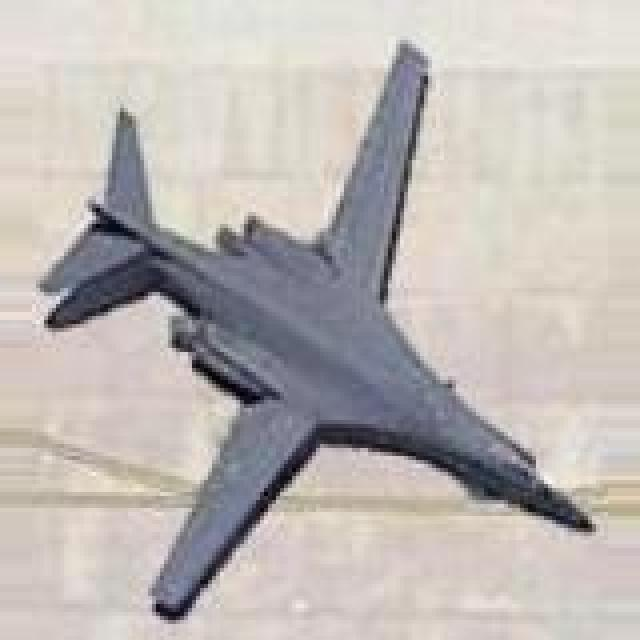B-1_TopDown: (32, 36, 596, 620)
